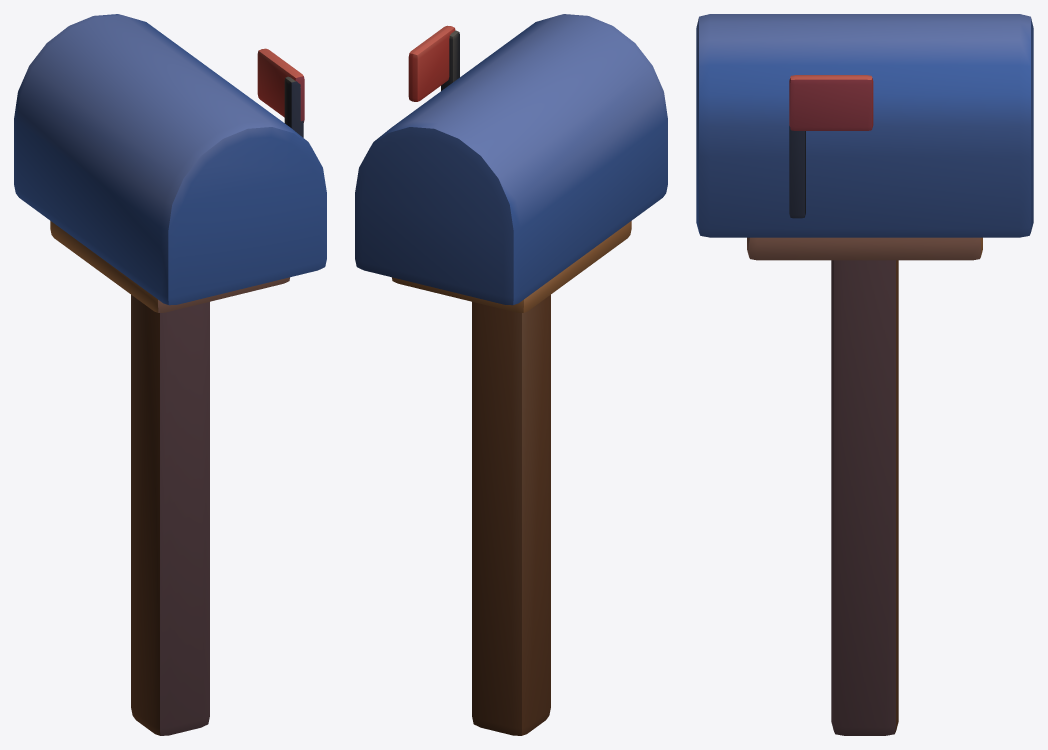
Rendered from Mailbox.fbx.
3 views of the same model, side by side, from view 1: azimuth 30°, elevation 25°; view 2: azimuth 150°, elevation 25°; view 3: azimuth 270°, elevation 25° (orthographic). The views are drawn at different scales.
Parts seen in each view (by area): view 1: SM_Yard_Mailbox; view 2: SM_Yard_Mailbox; view 3: SM_Yard_Mailbox.
Boxes of the visible parts, box(x1,y1,x2,y2) form: SM_Yard_Mailbox: box(14, 14, 326, 735); SM_Yard_Mailbox: box(355, 14, 667, 735); SM_Yard_Mailbox: box(696, 14, 1033, 735).
Size of the model in its own units: 1.34 by 4.6 by 2.
